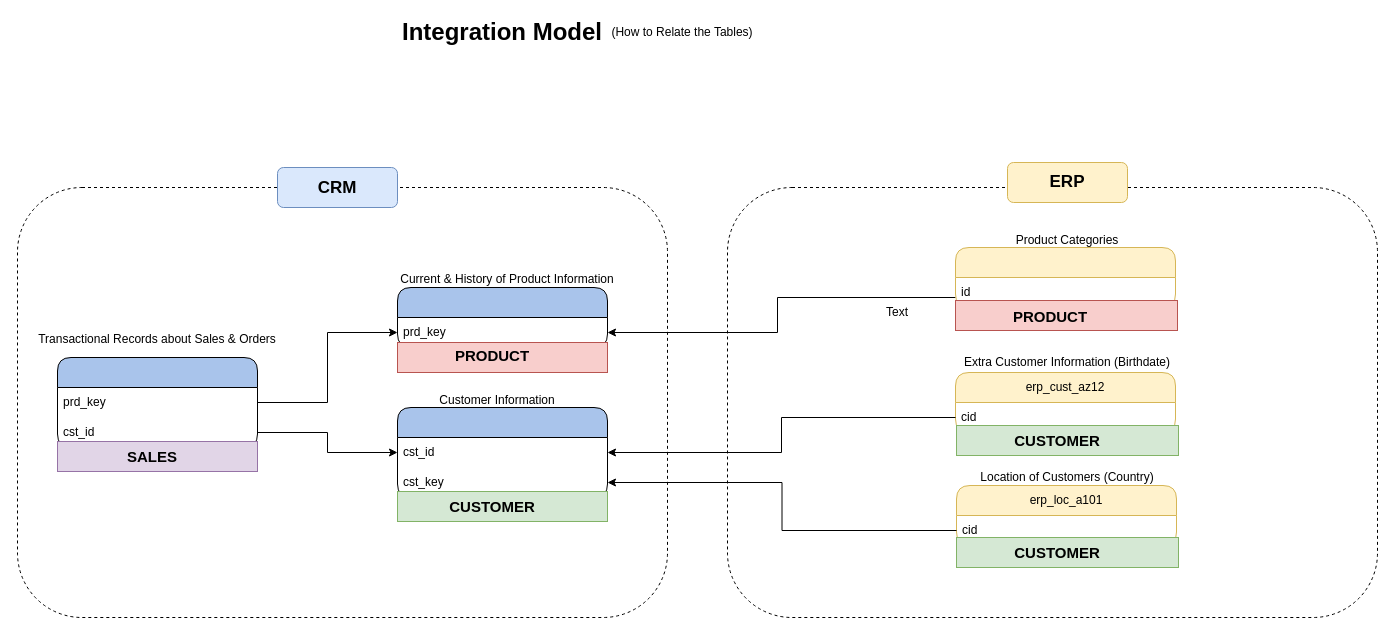
Image size: 1395x635. Some labels were removed from this diagram. Here are the shapes that lost their labels. From the top down, the box of each, then its label:
(954, 246, 1176, 308): erp_px_cat_g1v2
(396, 286, 608, 348): crm_prd_info
(56, 356, 258, 448): crm_sales_details
(396, 406, 608, 498): crm_cust_info
